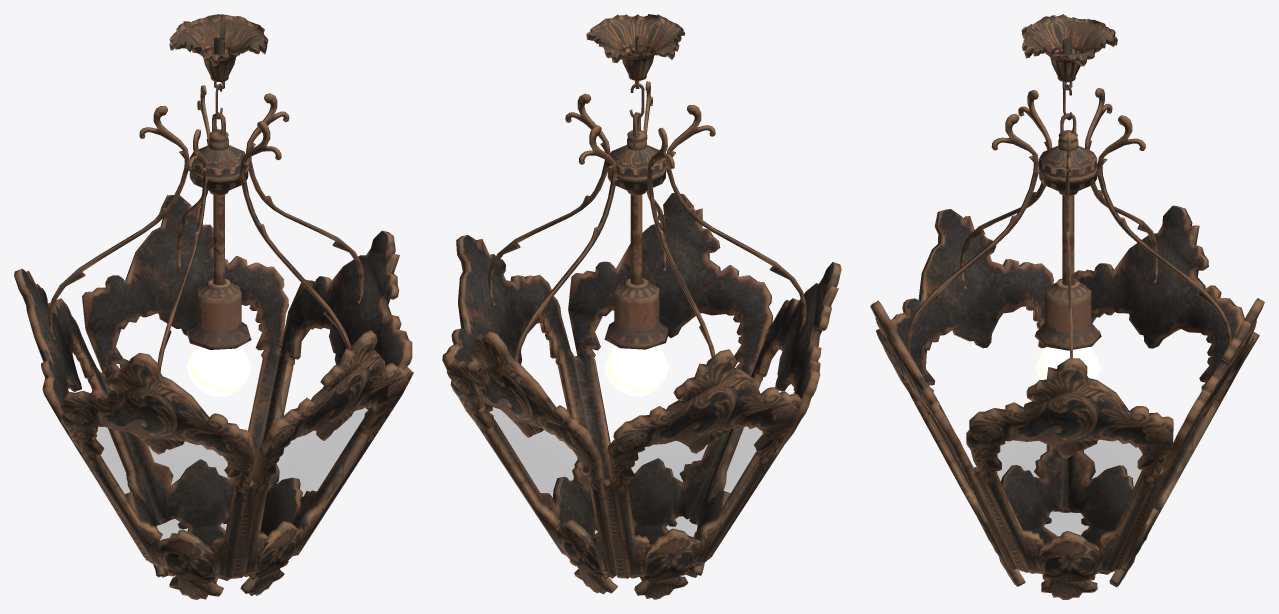
File: lantern_chandelier_01_1k.gltf
The picture shows the model from 3 angles, left to right: view 1: azimuth 30°, elevation 25°; view 2: azimuth 150°, elevation 25°; view 3: azimuth 270°, elevation 25°; orthographic projection.
Visible parts, largest first — view 1: lantern_chandelier_01; view 2: lantern_chandelier_01; view 3: lantern_chandelier_01.
Part boxes in pixels (x1=…): lantern_chandelier_01: x1=14, y1=14, x2=413, y2=599; lantern_chandelier_01: x1=442, y1=14, x2=841, y2=599; lantern_chandelier_01: x1=870, y1=14, x2=1264, y2=599.
Bounding box in the file's own units: 0.5792 × 0.8776 × 0.5746.
Materials: 3 (2 with a texture image).
